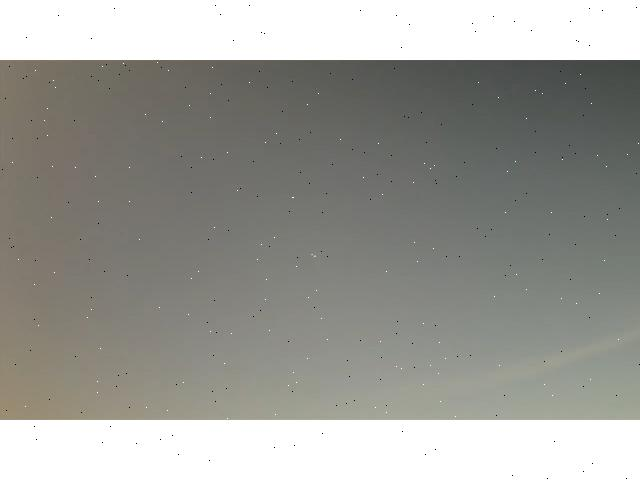Anti-Drone: (300, 248, 326, 263)
